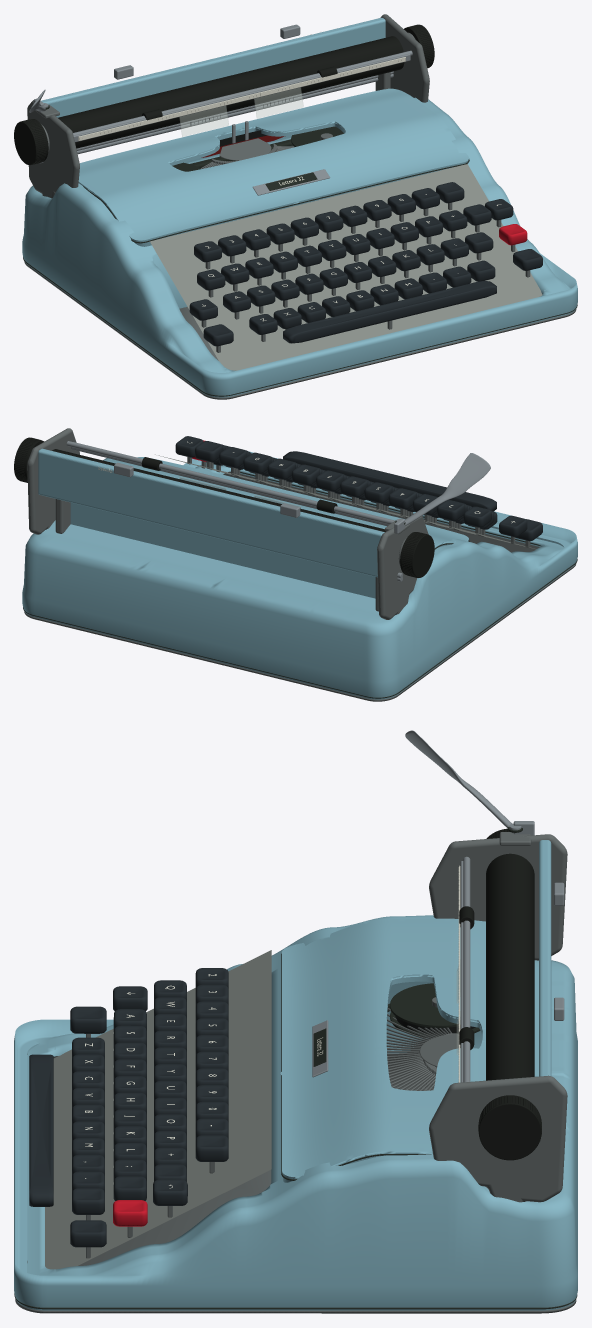
The model's file is lettera32-reference.glb.
The picture shows the model from 3 angles, top to bottom: view 1: azimuth 30°, elevation 25°; view 2: azimuth 150°, elevation 25°; view 3: azimuth 270°, elevation 25°; orthographic projection. The views are drawn at different scales.
Parts seen in each view (by area): view 1: Cast_shell_continuous, Ribbon_Hood, Key_well_metal, Platen, Paper_table, Key_Space, Carriage_cheek, Carriage_cheek.001, Bottom_pan, Margin_scale_white, Margin_scale_back, Platen_knob (+16 smaller); view 2: Cast_shell_continuous, Paper_table, Hood_outer_return, Bottom_pan, Carriage_cheek, Ribbon_Hood, Key_Space, Carriage_cheek.001, Paper_bail, Return_lever, Platen_knob, Lower_case_separation (+19 smaller); view 3: Cast_shell_continuous, Ribbon_Hood, Key_well_metal, Platen, Carriage_cheek.001, Carriage_cheek, Bottom_pan, Key_Space, Platen_knob.001, Paper_table, Ribbon_spool_flange.001, Lower_case_separation (+12 smaller).
Boxes of the visible parts, bbox=[...] form: Cast_shell_continuous: bbox=[22, 97, 577, 397]; Ribbon_Hood: bbox=[78, 88, 468, 241]; Key_well_metal: bbox=[150, 164, 542, 370]; Platen: bbox=[58, 36, 404, 148]; Paper_table: bbox=[41, 17, 385, 117]; Key_Space: bbox=[283, 280, 496, 343]; Carriage_cheek: bbox=[27, 100, 79, 198]; Carriage_cheek.001: bbox=[380, 14, 429, 102]; Bottom_pan: bbox=[24, 261, 576, 399]; Margin_scale_white: bbox=[78, 57, 405, 140]; Margin_scale_back: bbox=[73, 53, 410, 142]; Platen_knob: bbox=[14, 119, 48, 164]; Cast_shell_continuous: bbox=[22, 451, 577, 699]; Paper_table: bbox=[38, 448, 384, 577]; Hood_outer_return: bbox=[70, 502, 449, 598]; Bottom_pan: bbox=[24, 471, 576, 701]; Carriage_cheek: bbox=[377, 516, 428, 619]; Ribbon_Hood: bbox=[105, 457, 468, 547]; Key_Space: bbox=[283, 451, 496, 511]; Carriage_cheek.001: bbox=[27, 428, 79, 534]; Paper_bail: bbox=[66, 441, 394, 524]; Return_lever: bbox=[404, 453, 490, 526]; Platen_knob: bbox=[400, 532, 434, 577]; Lower_case_separation: bbox=[23, 472, 577, 698]; Cast_shell_continuous: bbox=[14, 915, 577, 1310]; Ribbon_Hood: bbox=[280, 919, 485, 1179]; Key_well_metal: bbox=[45, 950, 271, 1269]; Platen: bbox=[486, 853, 534, 1080]; Carriage_cheek.001: bbox=[429, 1075, 567, 1202]; Carriage_cheek: bbox=[429, 834, 567, 960]; Bottom_pan: bbox=[15, 1054, 576, 1313]; Key_Space: bbox=[29, 1054, 53, 1206]; Platen_knob.001: bbox=[479, 1095, 541, 1160]; Paper_table: bbox=[539, 840, 551, 1076]; Ribbon_spool_flange.001: bbox=[390, 983, 460, 1027]; Lower_case_separation: bbox=[14, 1054, 577, 1309].
Bounding box in the file's own units: 0.4027 × 0.204 × 0.3236.
